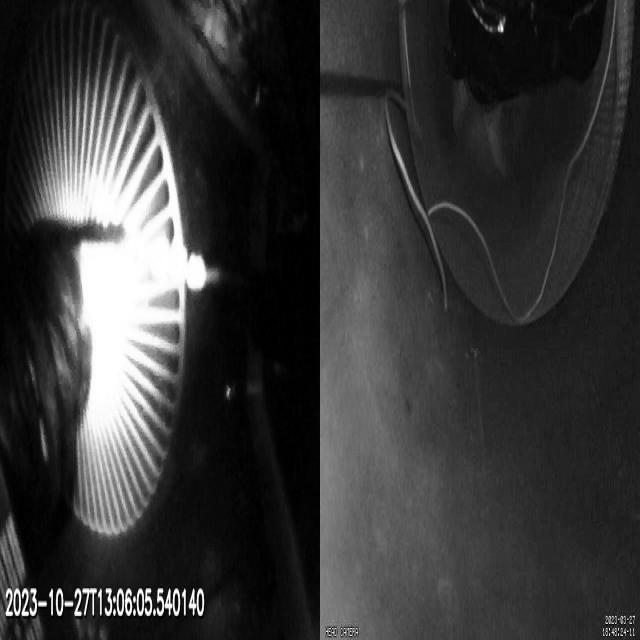white-dots: (152, 233, 206, 292)
